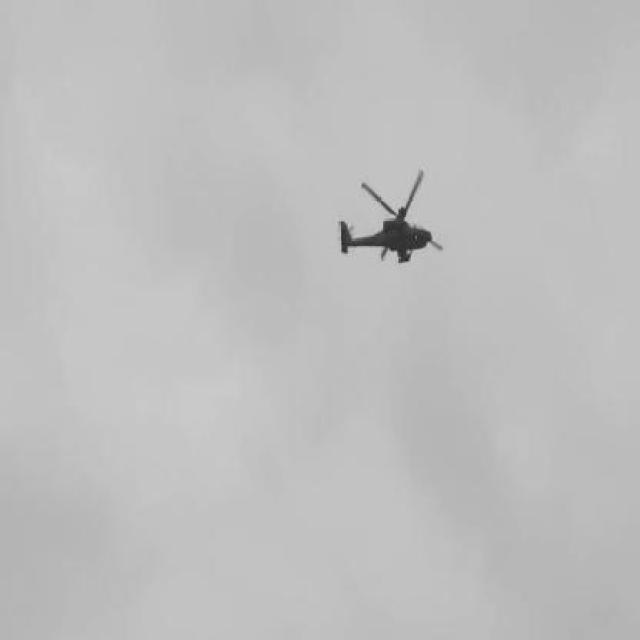Helicopter: (340, 171, 444, 265)
